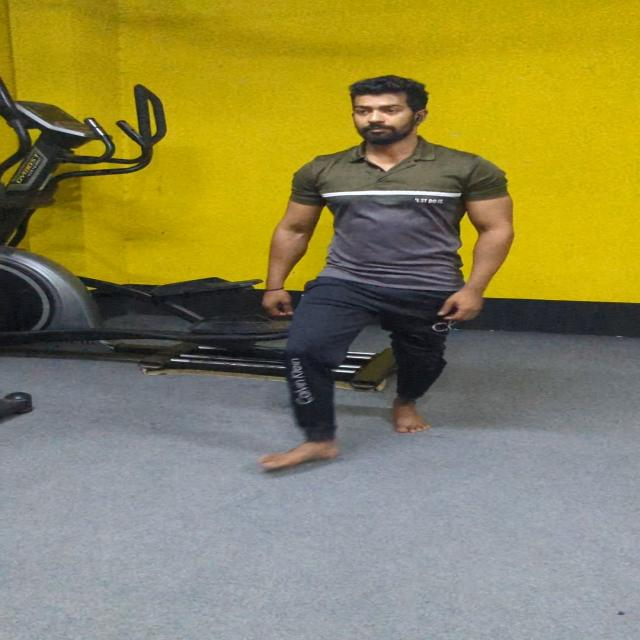Normal_Lunges: (87, 40, 640, 512)
